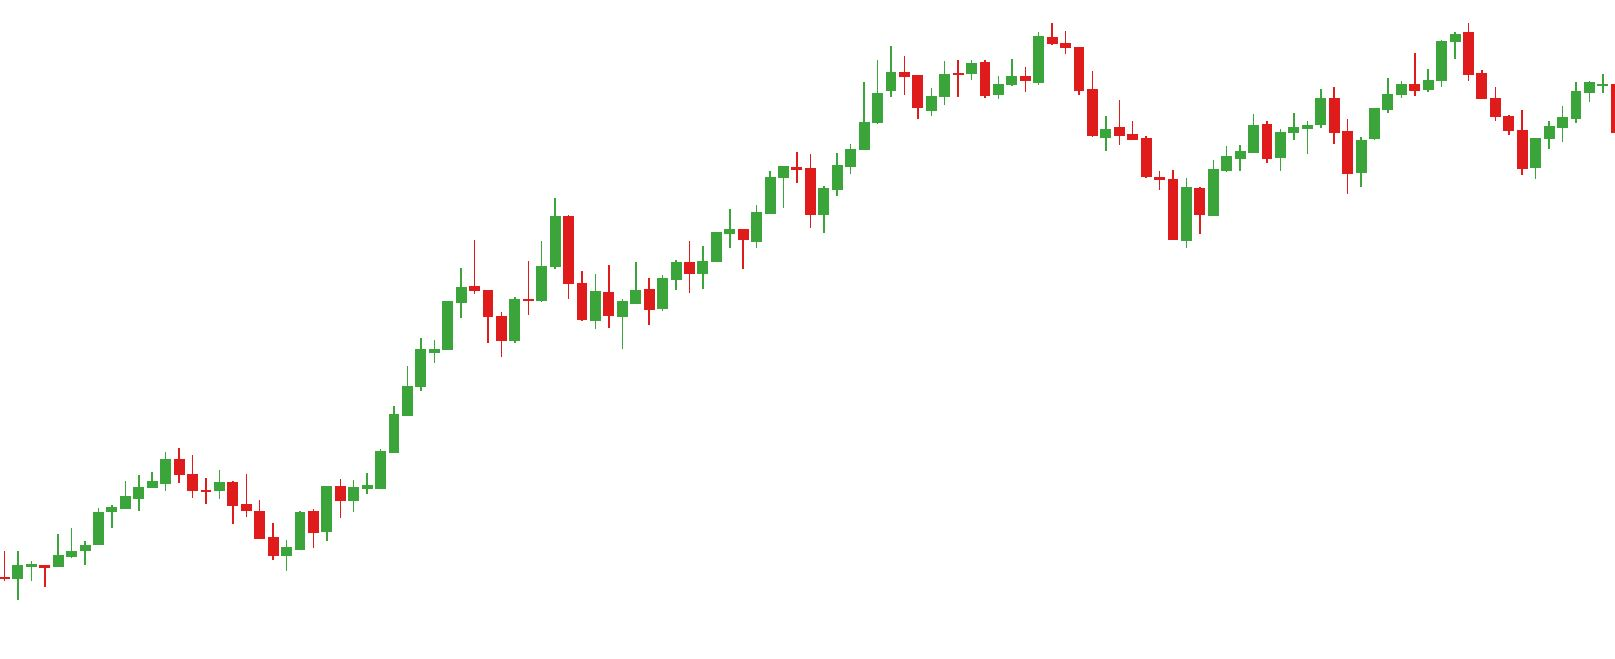buy: (1272, 116, 1368, 198)
sell: (883, 26, 1072, 78)
